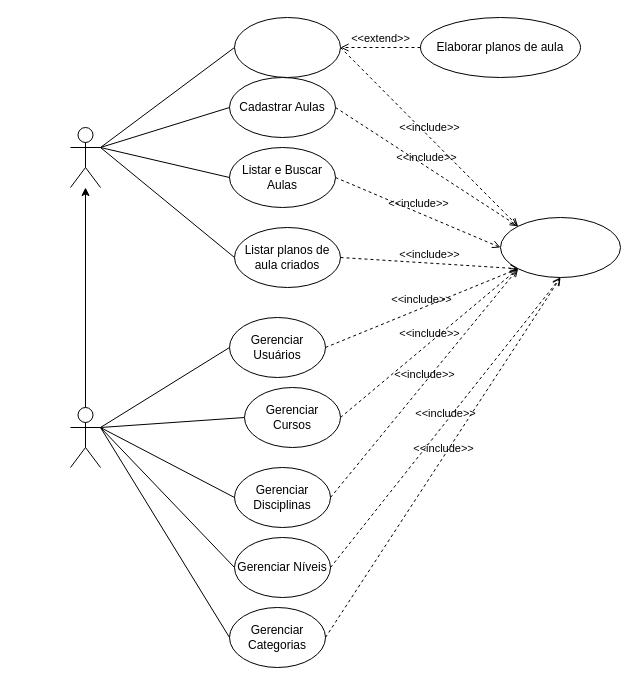
Some shapes in this 638 by 685 pixel diagram are drawn without their labels. Each missing label, with the box of its shape:
Agrupar aulas (carrinho): (234, 16, 340, 78)
Autenticação: (500, 216, 620, 278)
Coordenador Pedagógico: (70, 406, 100, 468)
Docente: (70, 126, 100, 188)
